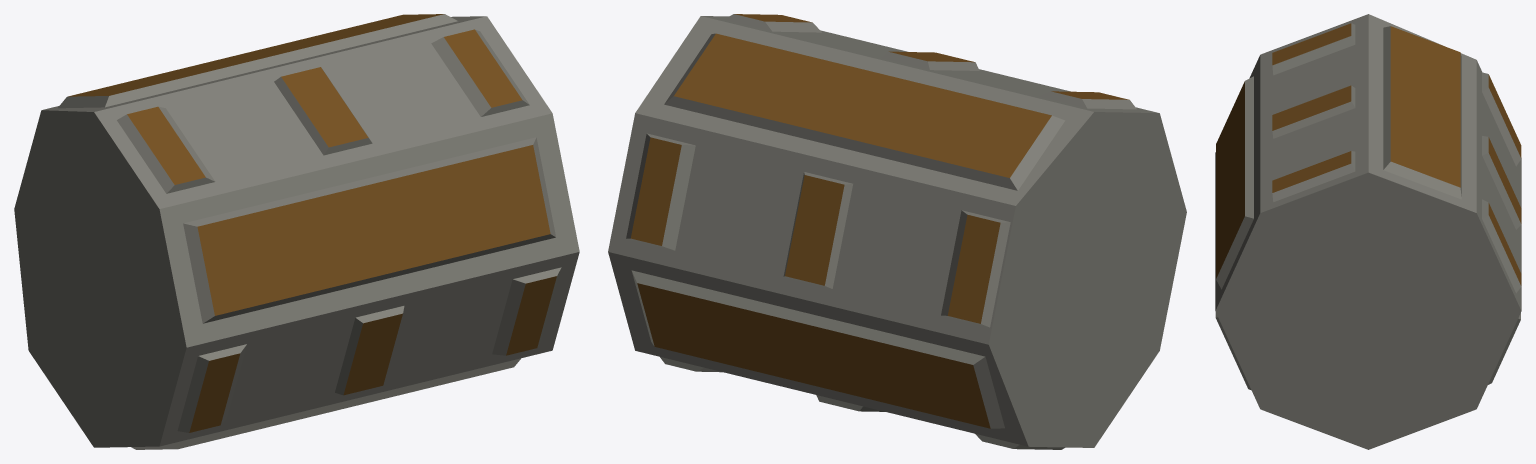
File: pipeConnector.fbx
3 renders of one model, left to right at view 1: azimuth 30°, elevation 25°; view 2: azimuth 150°, elevation 25°; view 3: azimuth 270°, elevation 25°, orthographic. The views are drawn at different scales.
Visible parts, largest first — view 1: Pipe - Connector; view 2: Pipe - Connector; view 3: Pipe - Connector.
Boxes of the visible parts, bbox=[...] form: Pipe - Connector: bbox=[14, 14, 579, 449]; Pipe - Connector: bbox=[608, 14, 1186, 449]; Pipe - Connector: bbox=[1215, 14, 1521, 449].
Size of the model in its own units: 20.44 by 16.68 by 16.68.
